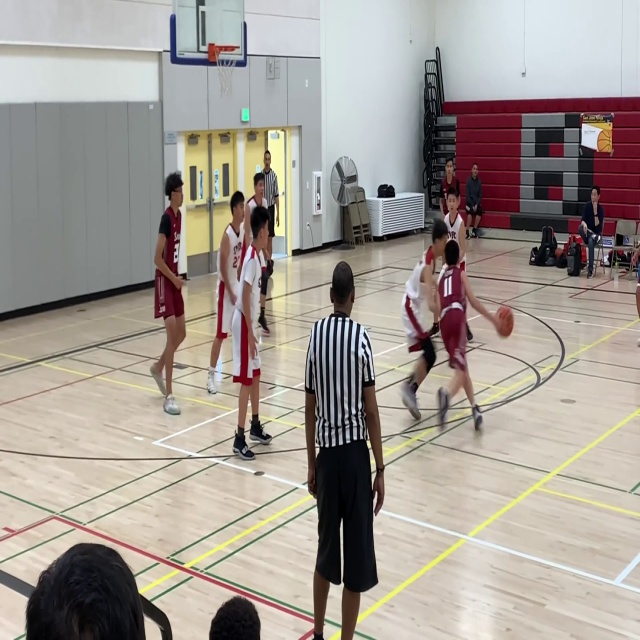Basketball: (495, 306, 514, 337)
